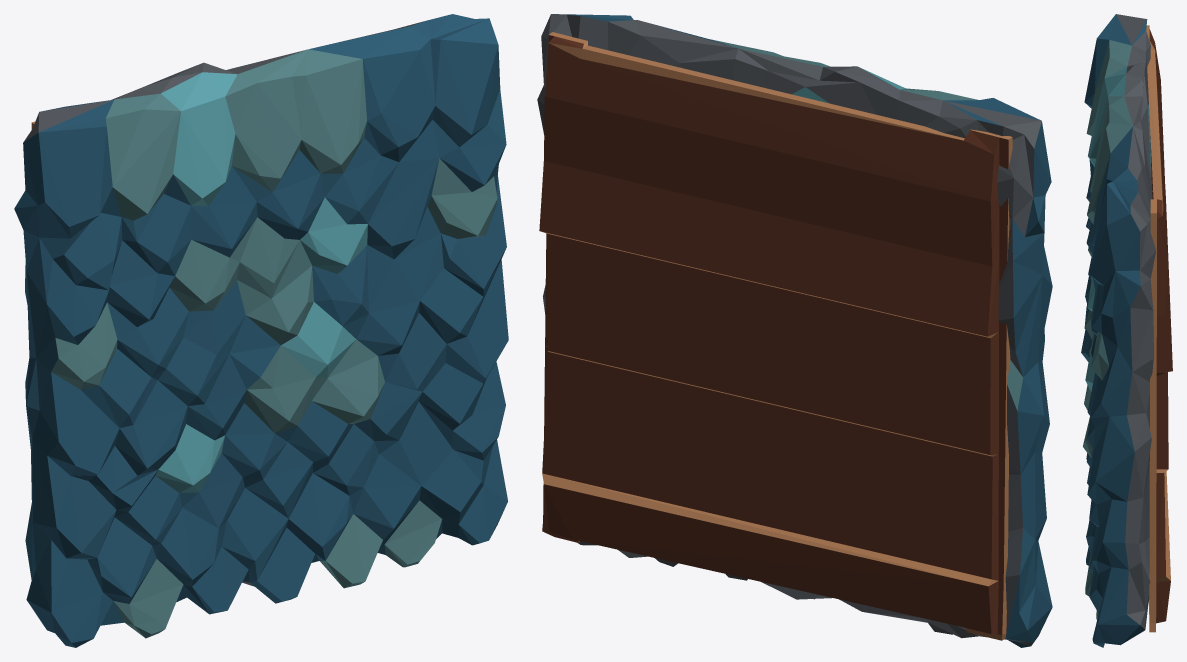
Rendered from MCastle_Roofs_04.FBX.
The picture shows the model from 3 angles, left to right: view 1: azimuth 30°, elevation 25°; view 2: azimuth 150°, elevation 25°; view 3: azimuth 270°, elevation 25°; orthographic projection. The views are drawn at different scales.
Visible parts, largest first — view 1: MCastle_Roofs_04_LOD0; view 2: MCastle_Roofs_04_LOD0; view 3: MCastle_Roofs_04_LOD0.
Part boxes in pixels (x1,y1,x2,y2): MCastle_Roofs_04_LOD0: [14, 14, 508, 647]; MCastle_Roofs_04_LOD0: [537, 14, 1052, 647]; MCastle_Roofs_04_LOD0: [1081, 14, 1172, 647].
Size of what is drawn, in the model's own units: 4.76 by 5.1 by 0.9056.
